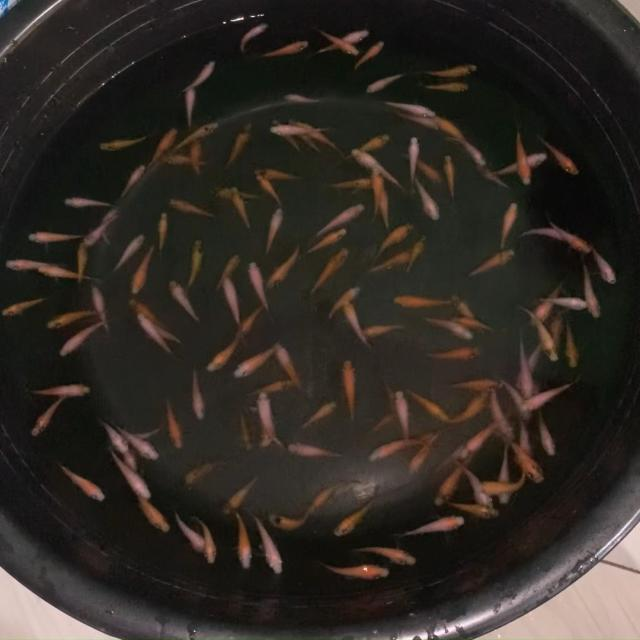nila: (239, 505, 285, 578), (490, 428, 544, 484), (446, 460, 494, 516), (520, 374, 586, 413), (304, 245, 349, 302), (308, 199, 366, 243), (516, 304, 560, 361), (454, 415, 506, 463), (348, 146, 404, 190), (56, 317, 112, 359), (368, 218, 412, 268), (56, 464, 107, 506), (432, 452, 472, 505), (128, 488, 172, 536), (263, 240, 303, 292), (308, 476, 359, 516), (110, 454, 153, 500), (113, 421, 161, 462), (546, 213, 594, 254), (536, 132, 580, 176), (253, 392, 286, 450), (172, 509, 212, 555), (330, 496, 377, 535), (232, 342, 280, 380), (397, 514, 467, 540), (486, 150, 546, 180), (344, 544, 418, 568), (313, 26, 372, 56), (136, 314, 176, 358), (490, 446, 518, 508), (298, 120, 346, 156), (172, 118, 220, 154), (168, 280, 204, 328), (323, 282, 364, 324), (441, 392, 487, 429), (402, 388, 450, 423), (517, 332, 541, 402), (29, 394, 67, 438), (513, 336, 545, 388), (82, 209, 124, 248), (340, 298, 372, 349), (318, 558, 392, 580), (368, 438, 426, 466), (406, 432, 442, 477), (530, 280, 565, 326), (182, 454, 235, 484), (338, 131, 394, 159), (498, 376, 532, 422), (464, 246, 516, 276), (206, 331, 244, 372), (220, 123, 254, 168), (298, 397, 339, 434), (110, 231, 146, 273), (223, 473, 259, 515), (488, 386, 515, 442), (144, 126, 179, 169), (272, 340, 302, 390), (302, 225, 347, 258), (473, 468, 526, 496), (444, 128, 483, 166), (454, 292, 489, 334), (192, 514, 220, 566), (93, 130, 159, 152), (340, 358, 363, 421), (38, 264, 103, 286), (230, 509, 253, 571), (43, 306, 100, 331), (512, 122, 534, 186), (218, 274, 244, 328), (247, 260, 274, 312), (398, 152, 441, 184), (212, 250, 243, 294), (385, 294, 453, 314), (128, 245, 154, 297), (424, 316, 476, 342), (317, 28, 362, 58), (371, 248, 416, 278), (126, 297, 168, 329), (389, 390, 412, 448), (432, 377, 506, 395), (177, 60, 216, 94), (421, 344, 487, 364), (232, 303, 266, 341), (580, 262, 602, 320), (428, 440, 466, 473), (229, 182, 253, 234), (286, 118, 320, 154), (237, 20, 269, 58), (168, 196, 218, 220), (499, 200, 521, 254), (3, 257, 65, 276), (183, 236, 204, 292), (403, 233, 431, 275), (536, 410, 559, 461), (416, 60, 481, 78), (589, 246, 618, 286), (24, 382, 96, 398), (358, 318, 406, 342), (364, 70, 410, 95), (246, 377, 296, 400), (162, 398, 184, 450), (416, 177, 440, 224), (284, 441, 346, 459), (470, 159, 506, 190), (252, 163, 305, 184), (416, 76, 474, 95), (261, 37, 311, 59), (96, 418, 128, 452), (256, 400, 276, 454), (263, 207, 285, 256), (268, 119, 300, 152), (266, 510, 314, 532), (351, 40, 386, 70), (0, 295, 50, 316), (188, 364, 206, 421), (396, 110, 444, 131), (446, 503, 502, 521), (383, 98, 436, 117), (109, 426, 162, 445), (546, 306, 568, 351), (119, 162, 145, 200), (93, 285, 112, 336), (362, 408, 393, 439), (532, 296, 592, 312), (210, 183, 260, 202), (330, 175, 382, 193), (62, 196, 114, 214), (432, 115, 464, 144), (146, 326, 188, 348), (257, 174, 284, 207), (27, 228, 79, 245), (442, 153, 460, 201), (162, 154, 215, 170), (564, 321, 582, 368), (376, 176, 391, 232), (516, 420, 532, 472), (101, 205, 120, 248), (380, 378, 402, 414), (368, 168, 383, 220), (516, 227, 574, 240), (156, 209, 170, 262), (182, 85, 197, 134), (268, 125, 334, 136), (190, 133, 205, 181), (76, 238, 91, 286), (449, 319, 497, 334), (408, 136, 420, 192), (236, 412, 252, 454), (120, 448, 142, 476), (278, 94, 324, 105)
